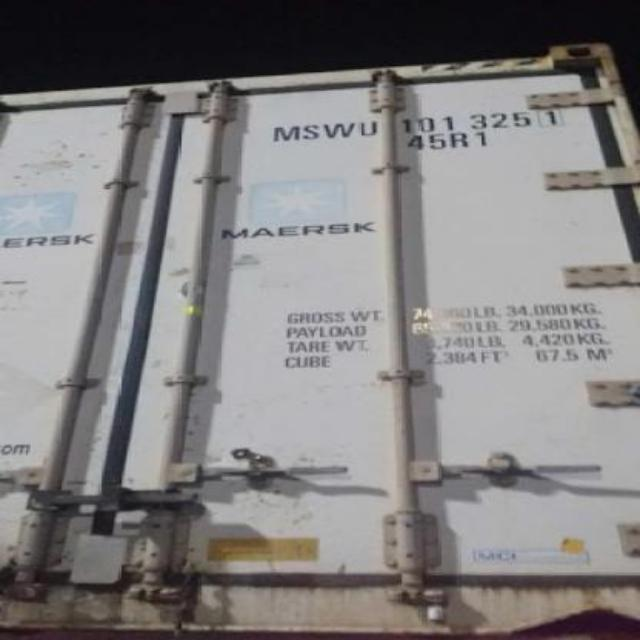0: (414, 111, 438, 132)
1: (534, 109, 566, 125), (396, 114, 416, 134), (438, 110, 458, 130)
2: (488, 108, 508, 128)
3: (462, 110, 492, 130)
5: (510, 108, 534, 128)
M: (268, 122, 302, 144)
S: (298, 120, 322, 142)
U: (356, 118, 380, 140)
W: (324, 118, 354, 140)
